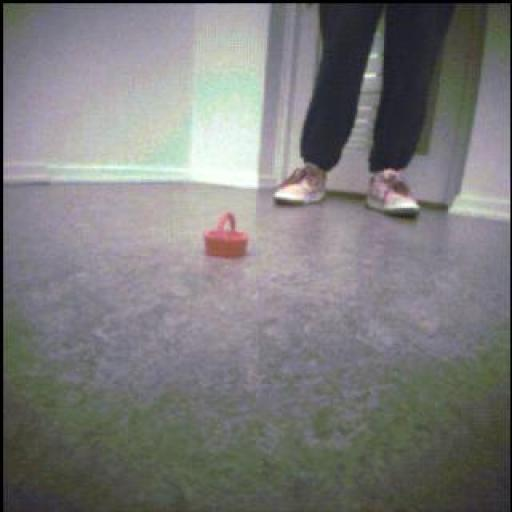Bucket: (204, 214, 249, 259)
